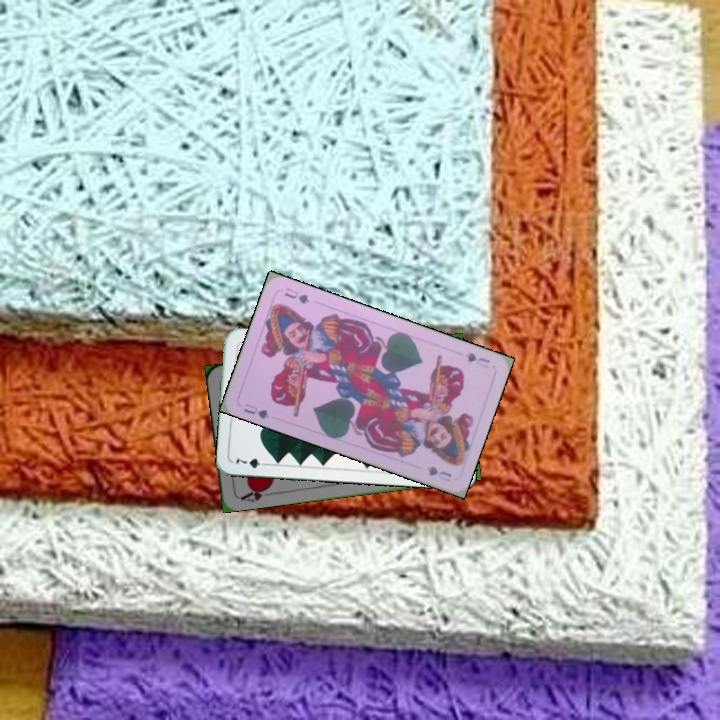G7: (232, 453, 271, 471)
GU: (239, 399, 272, 422), (461, 348, 493, 371)
HA: (236, 482, 274, 505)
